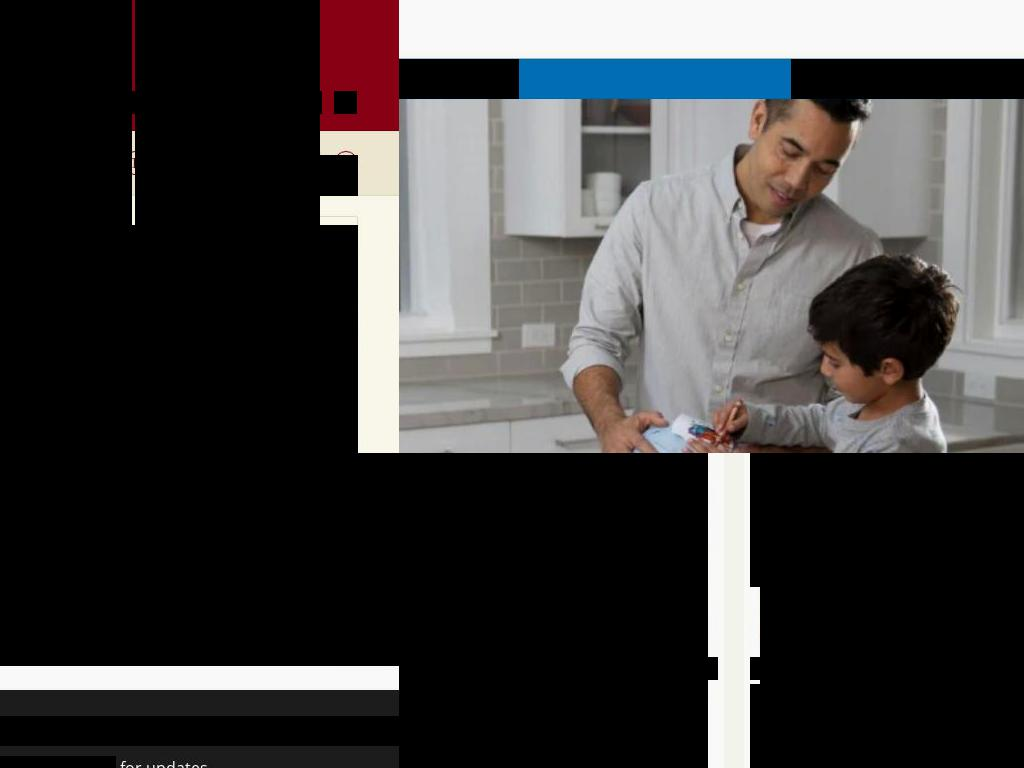button: (399, 453, 708, 768), (760, 453, 1024, 768), (72, 225, 358, 453), (0, 533, 229, 584), (0, 599, 229, 650), (791, 59, 1024, 99), (242, 533, 399, 584), (399, 657, 718, 680), (750, 684, 917, 724), (750, 657, 1024, 680), (399, 59, 519, 99), (399, 684, 511, 724), (750, 723, 851, 762), (265, 155, 358, 196), (750, 509, 831, 548), (750, 471, 830, 510), (750, 547, 794, 587), (399, 471, 431, 510), (750, 453, 802, 472), (53, 91, 76, 114), (88, 91, 111, 114), (123, 91, 146, 114), (158, 91, 181, 114), (193, 91, 216, 114), (229, 91, 252, 114), (264, 91, 287, 114), (299, 91, 322, 114), (334, 91, 357, 114), (18, 91, 40, 114), (0, 91, 5, 114)
field: (38, 0, 106, 14)
heading: (0, 453, 399, 486), (0, 716, 399, 746), (93, 446, 337, 453)
image: (0, 453, 399, 666), (399, 453, 708, 695), (760, 453, 1024, 695), (73, 226, 357, 427)
link: (135, 0, 320, 453), (399, 707, 708, 724), (760, 707, 1024, 724), (34, 756, 116, 768), (66, 26, 97, 42), (29, 26, 58, 42), (0, 26, 23, 42)
text: (0, 0, 132, 453), (803, 61, 1024, 99), (399, 723, 708, 750), (760, 723, 1024, 750), (0, 545, 186, 571), (0, 611, 186, 637), (399, 61, 508, 99), (286, 545, 399, 571), (116, 756, 212, 768), (286, 167, 325, 185)
